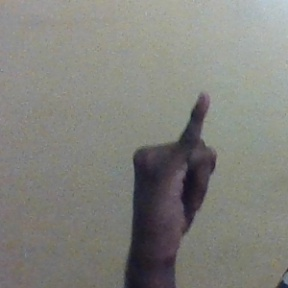I: (132, 91, 217, 219)
